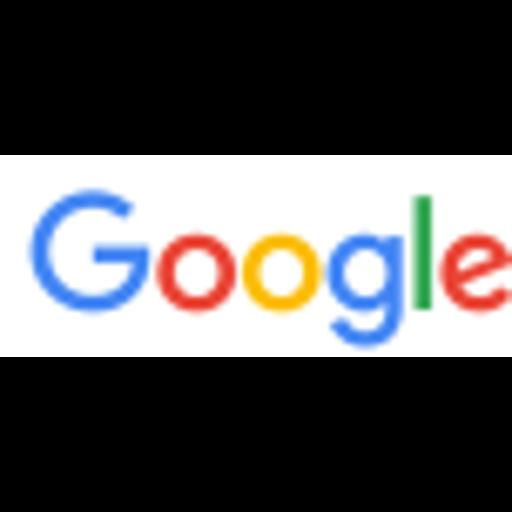Google: (0, 155, 512, 357)
